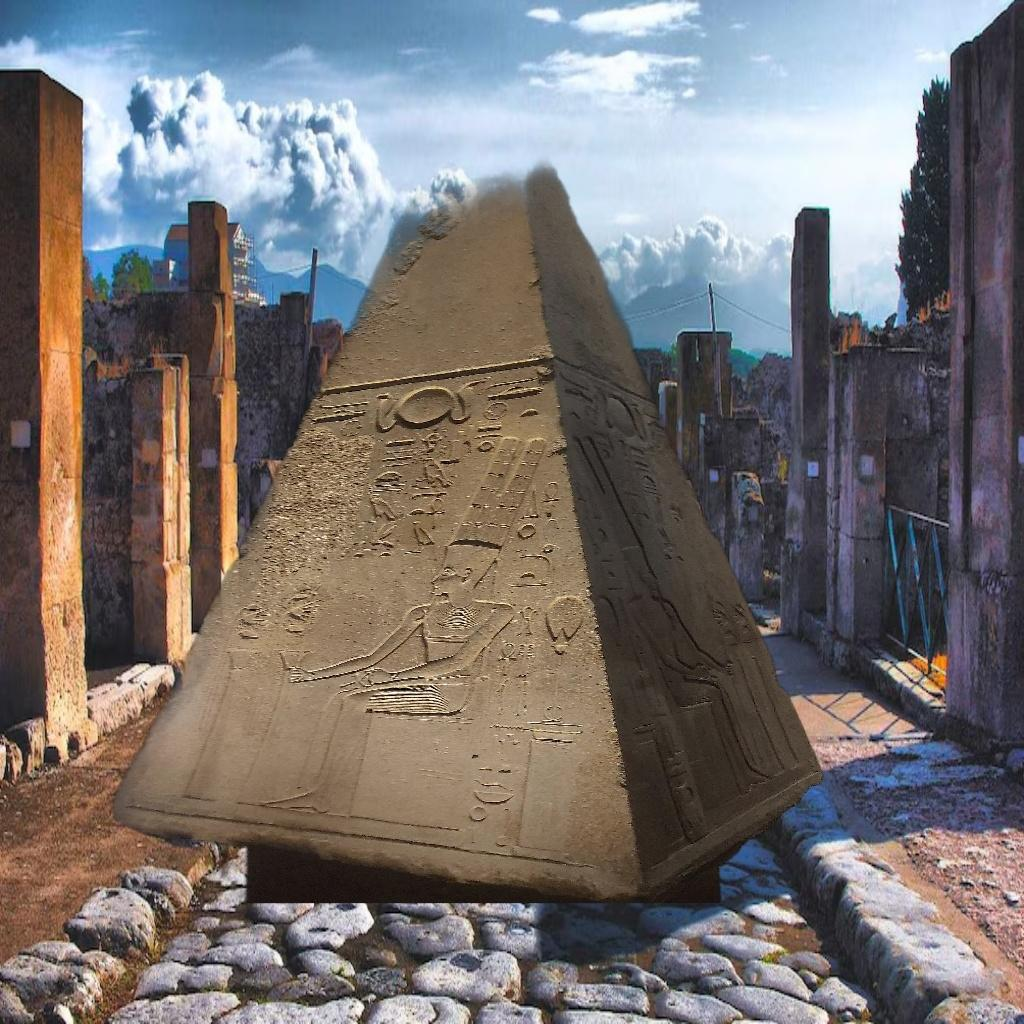Obelsik Tip of Hatshepsut: (109, 90, 827, 904)
